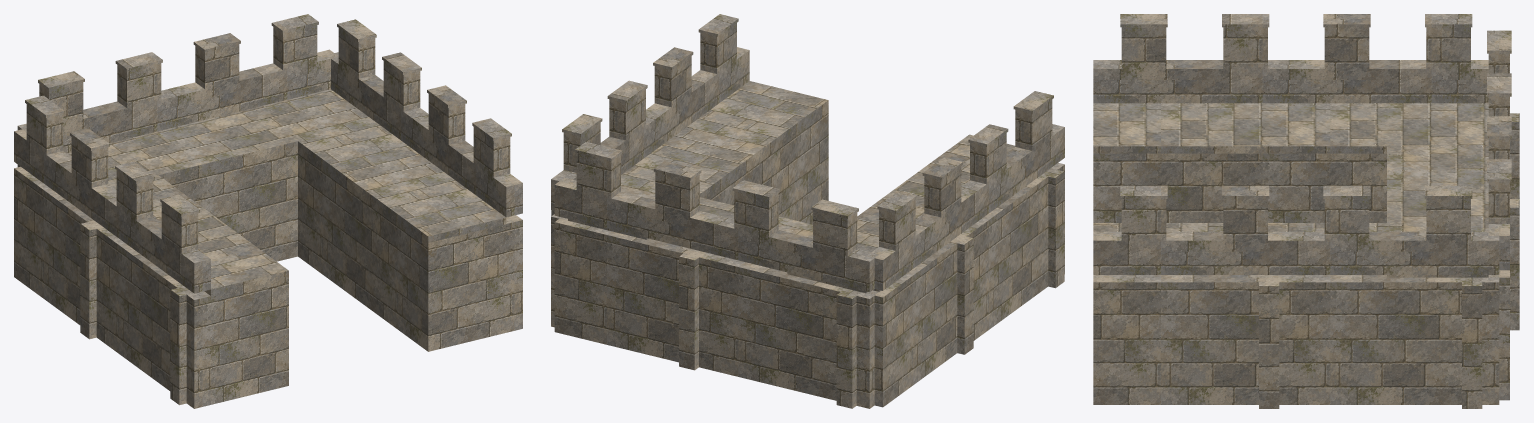
Rendered from castle-curtain-u.gltf.
The picture shows the model from 3 angles, left to right: view 1: azimuth 30°, elevation 25°; view 2: azimuth 150°, elevation 25°; view 3: azimuth 270°, elevation 25°; orthographic projection. The views are drawn at different scales.
Visible parts, largest first — view 1: curtain-L0-stone, walkway-L1-stone; view 2: curtain-L0-stone, walkway-L1-stone; view 3: curtain-L0-stone, walkway-L1-stone.
Boxes of the visible parts, x1=… form: curtain-L0-stone: x1=14, y1=14, x2=522, y2=408; walkway-L1-stone: x1=67, y1=89, x2=506, y2=295; curtain-L0-stone: x1=551, y1=14, x2=1064, y2=408; walkway-L1-stone: x1=568, y1=81, x2=1015, y2=293; curtain-L0-stone: x1=1093, y1=14, x2=1519, y2=408; walkway-L1-stone: x1=1093, y1=103, x2=1488, y2=277.
Size of the model in its own units: 6.6 by 3.42 by 6.3.
1 material, 1 textured.
